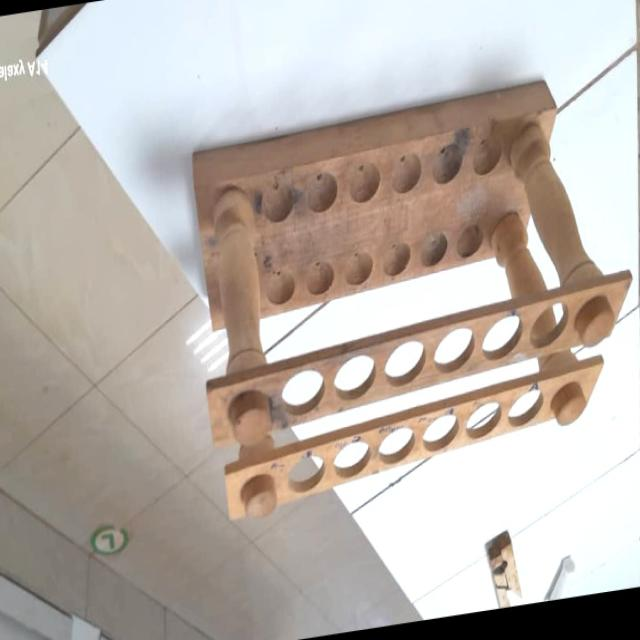Test Tube Racks: (180, 64, 640, 532)
